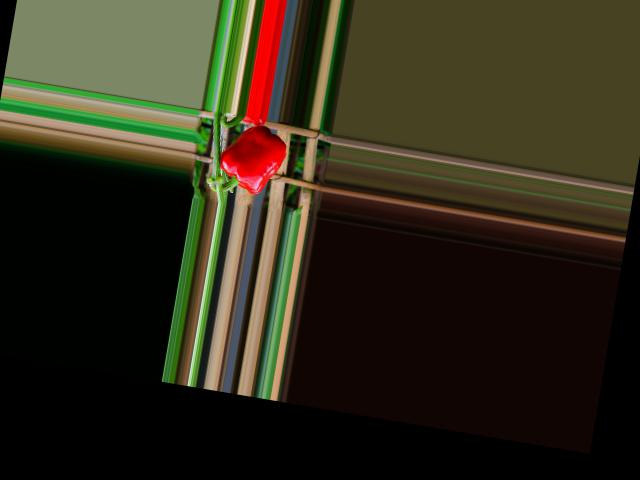bell_pepper: (210, 119, 294, 199)
